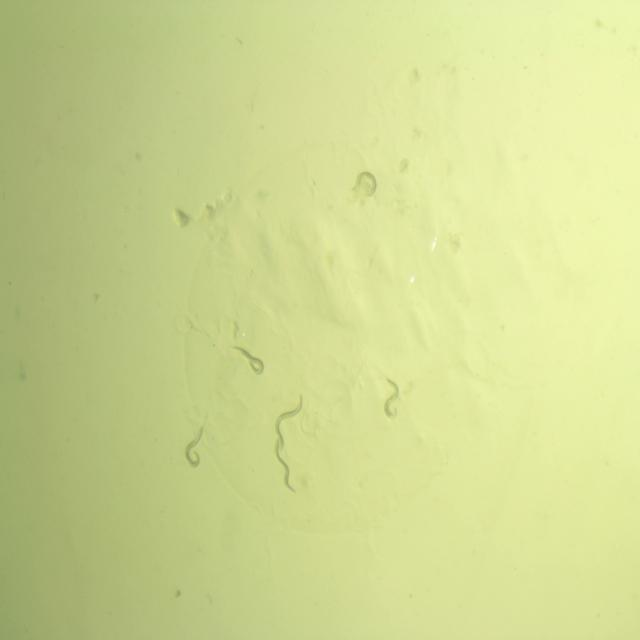worm: (273, 390, 306, 455), (272, 436, 300, 501), (227, 340, 270, 380), (180, 417, 211, 470), (380, 372, 402, 430), (349, 166, 380, 203)
